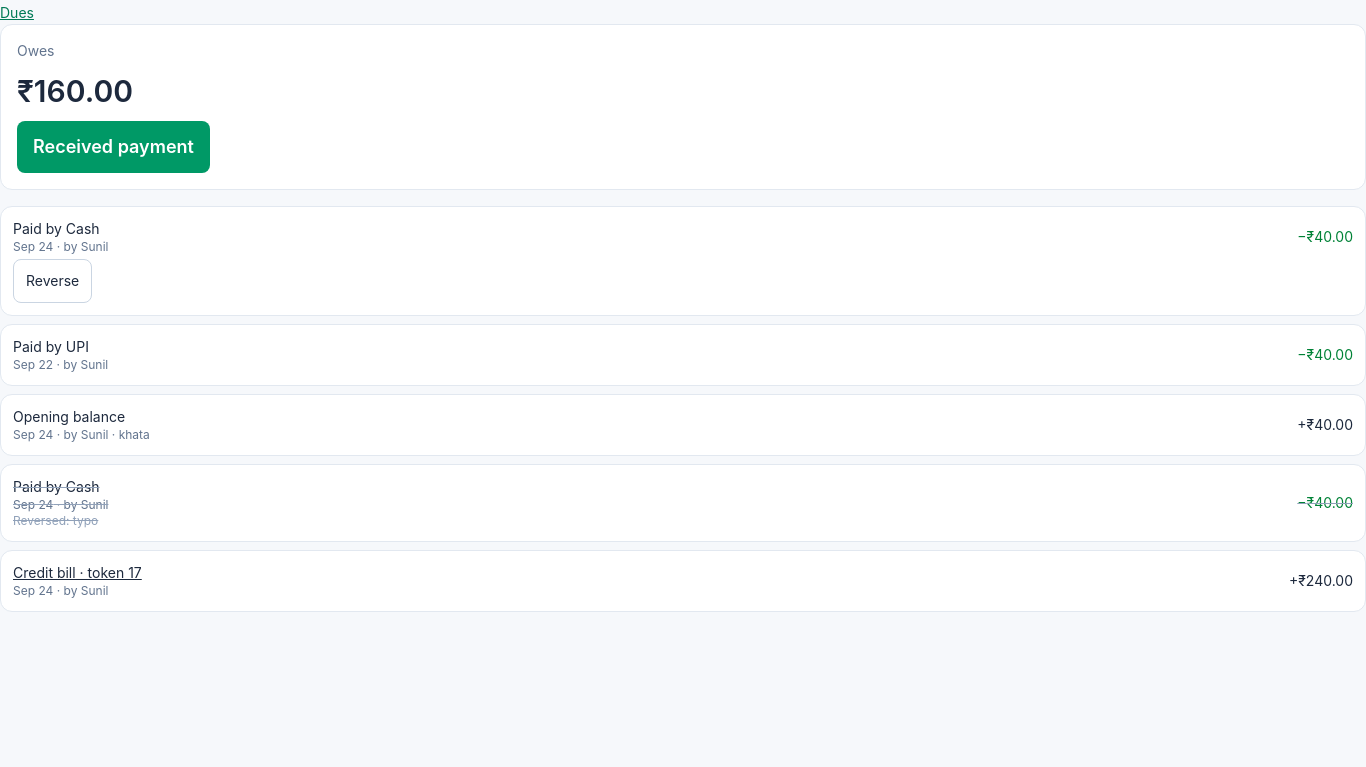
it: Customer dues › does not let a second tap re-submit while the post-write reload is still pending
The width and height of the screenshot is (1366, 767).
Click the button with test id "cd-receive": [113, 147] box left=17, top=121, right=210, bottom=173
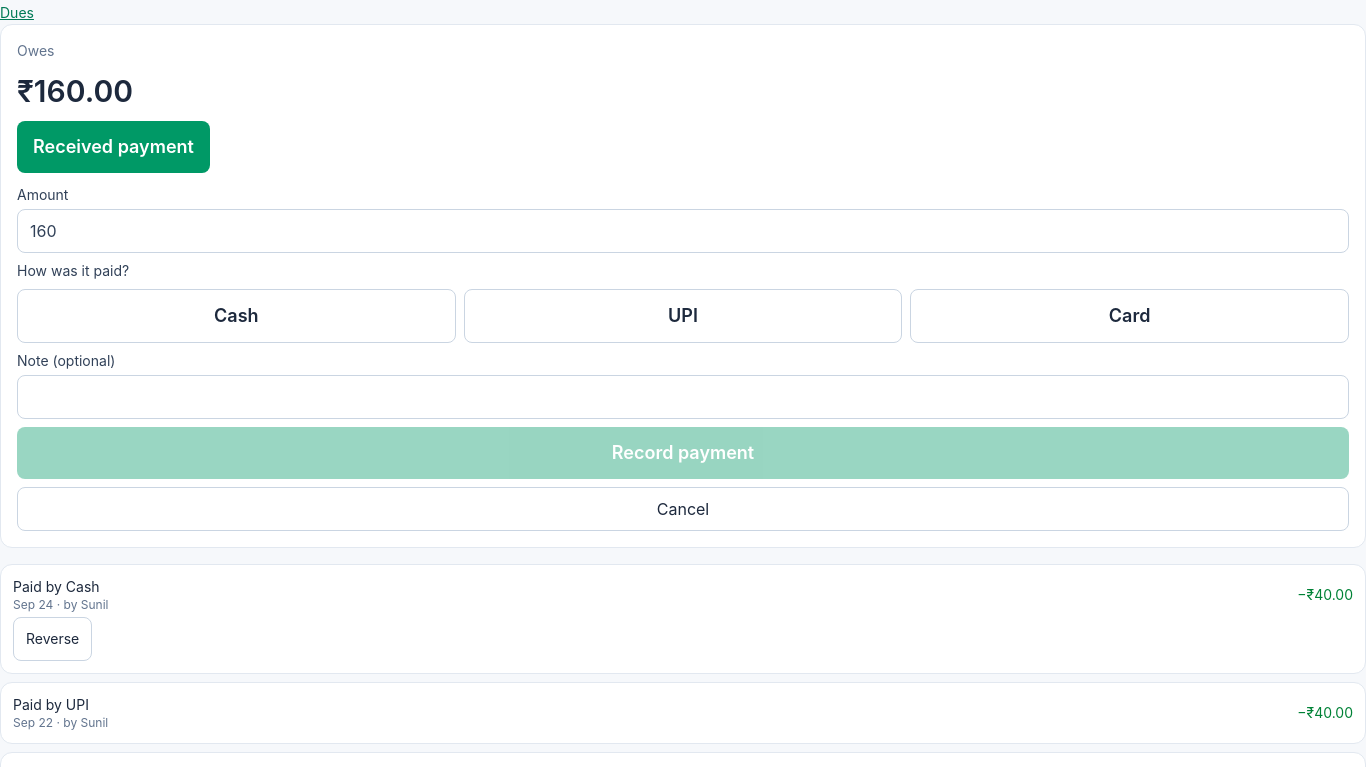
Replace the text in the field with test id "cd-amount" with "50": [683, 231] box left=17, top=209, right=1349, bottom=253
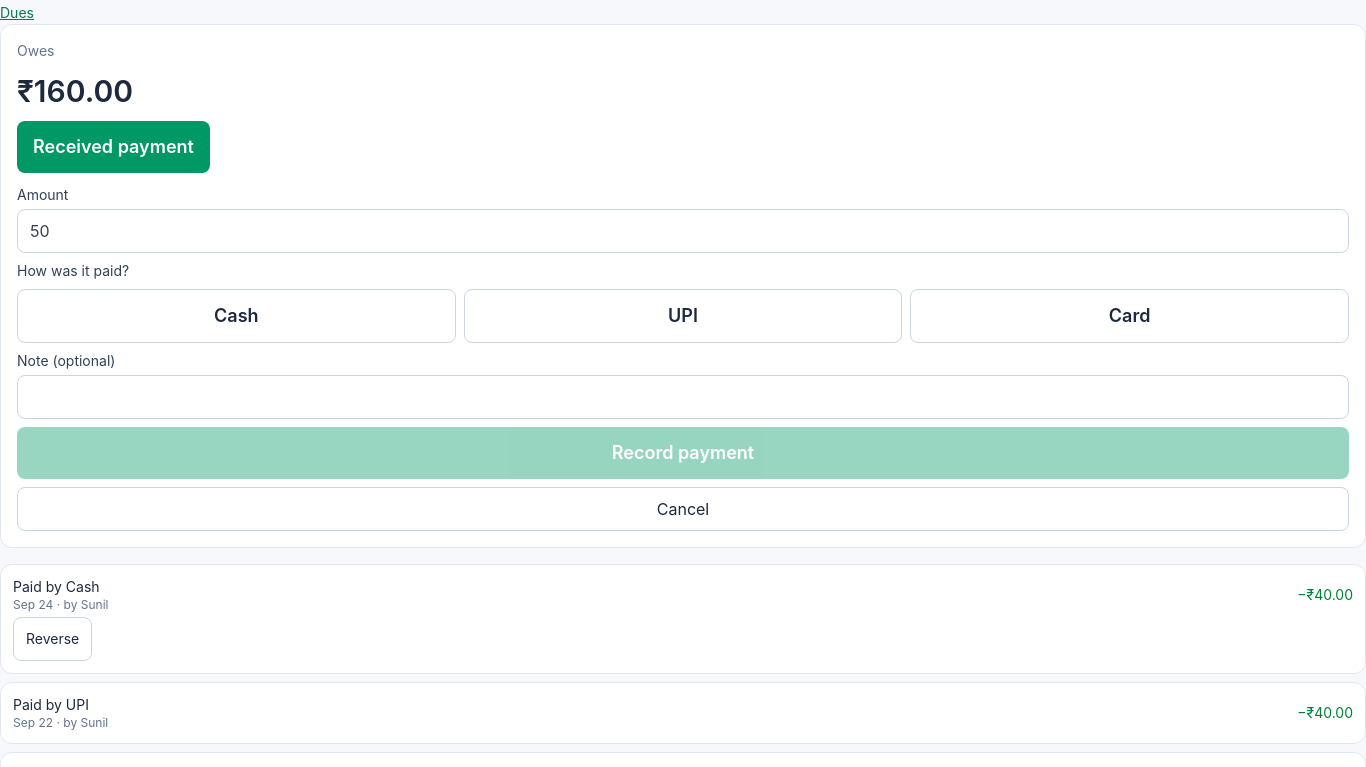
Click the button with test id "cd-mode-cash": [236, 316] box left=17, top=289, right=456, bottom=343
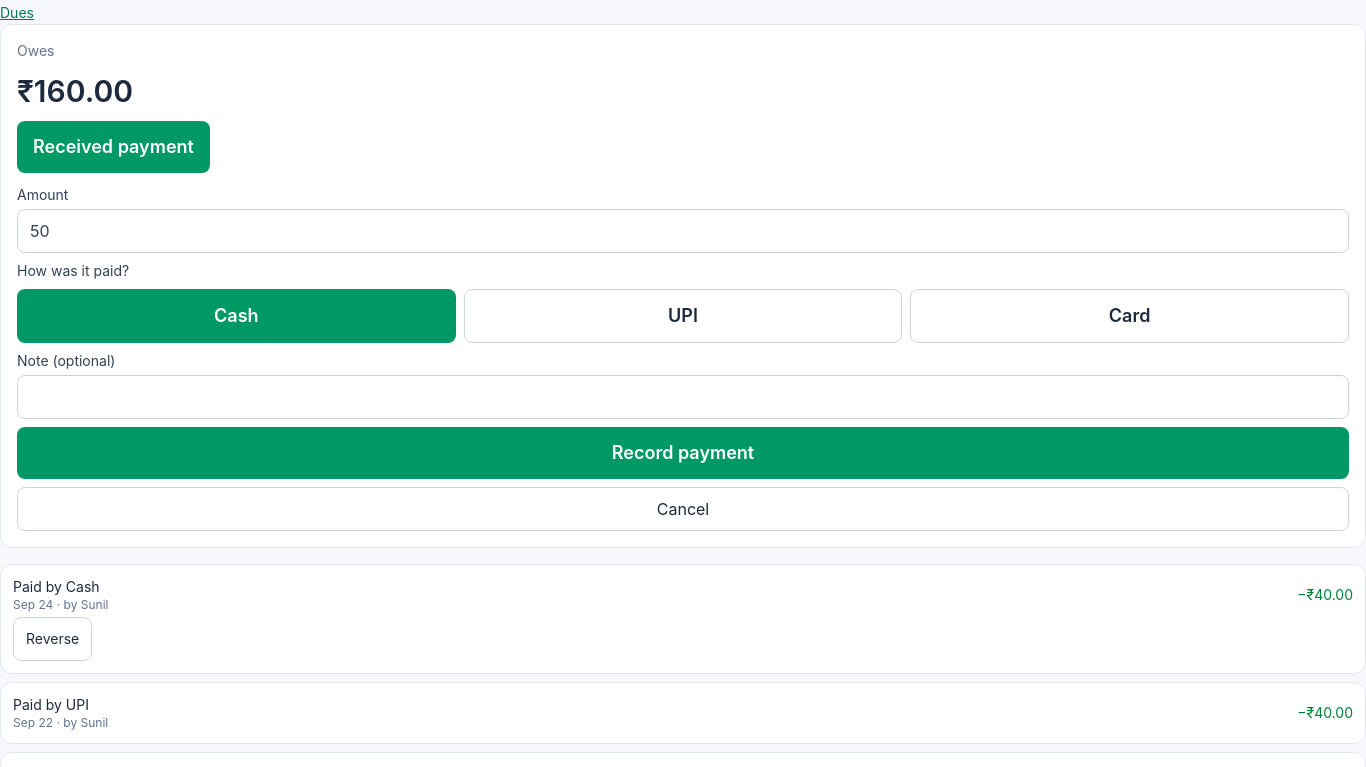
Click the button with test id "cd-receive-confirm": [683, 453] box left=17, top=427, right=1349, bottom=479
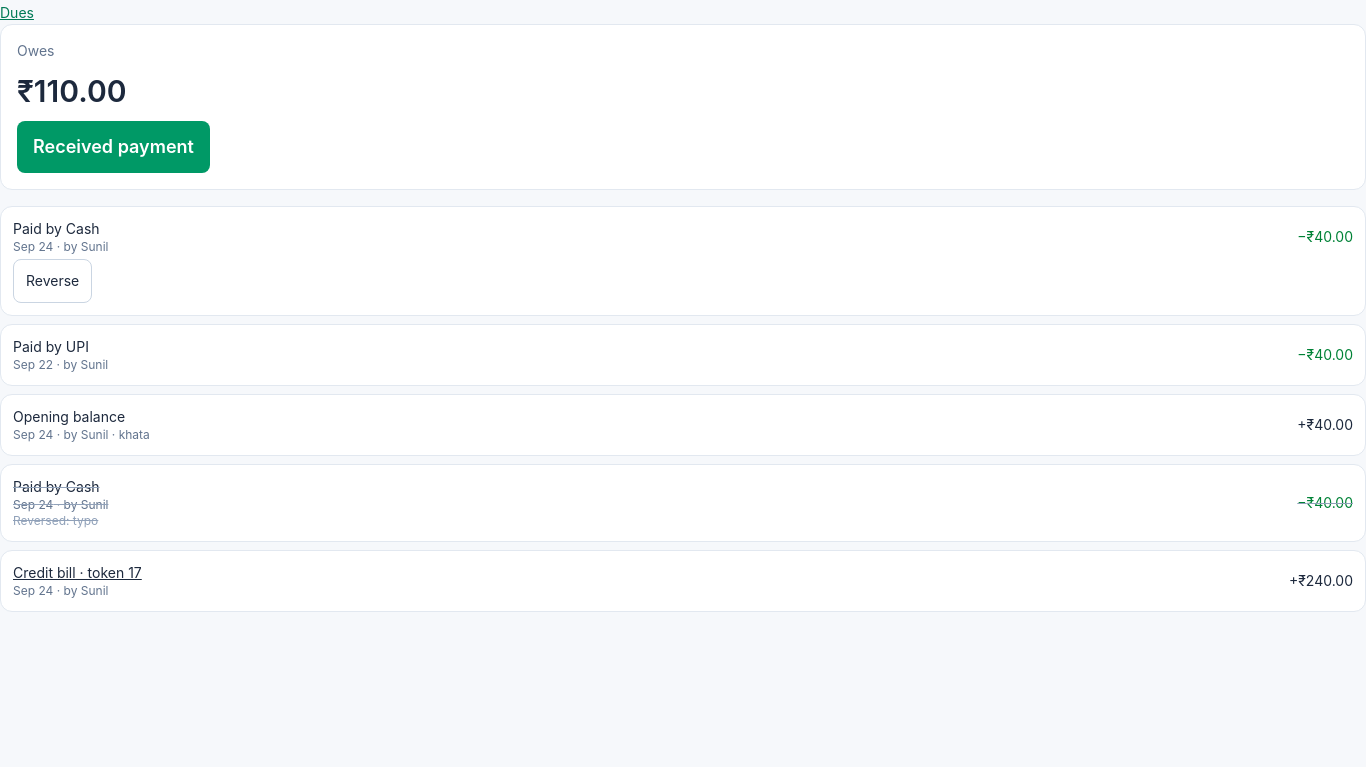
Check: the button with test id "cd-receive-confirm" is gone
Check: the text with test id "cd-balance" shows "110.00", box left=17, top=73, right=126, bottom=109
